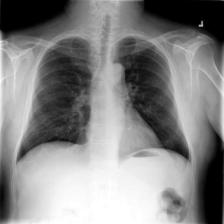normal: (15, 32, 192, 167)
